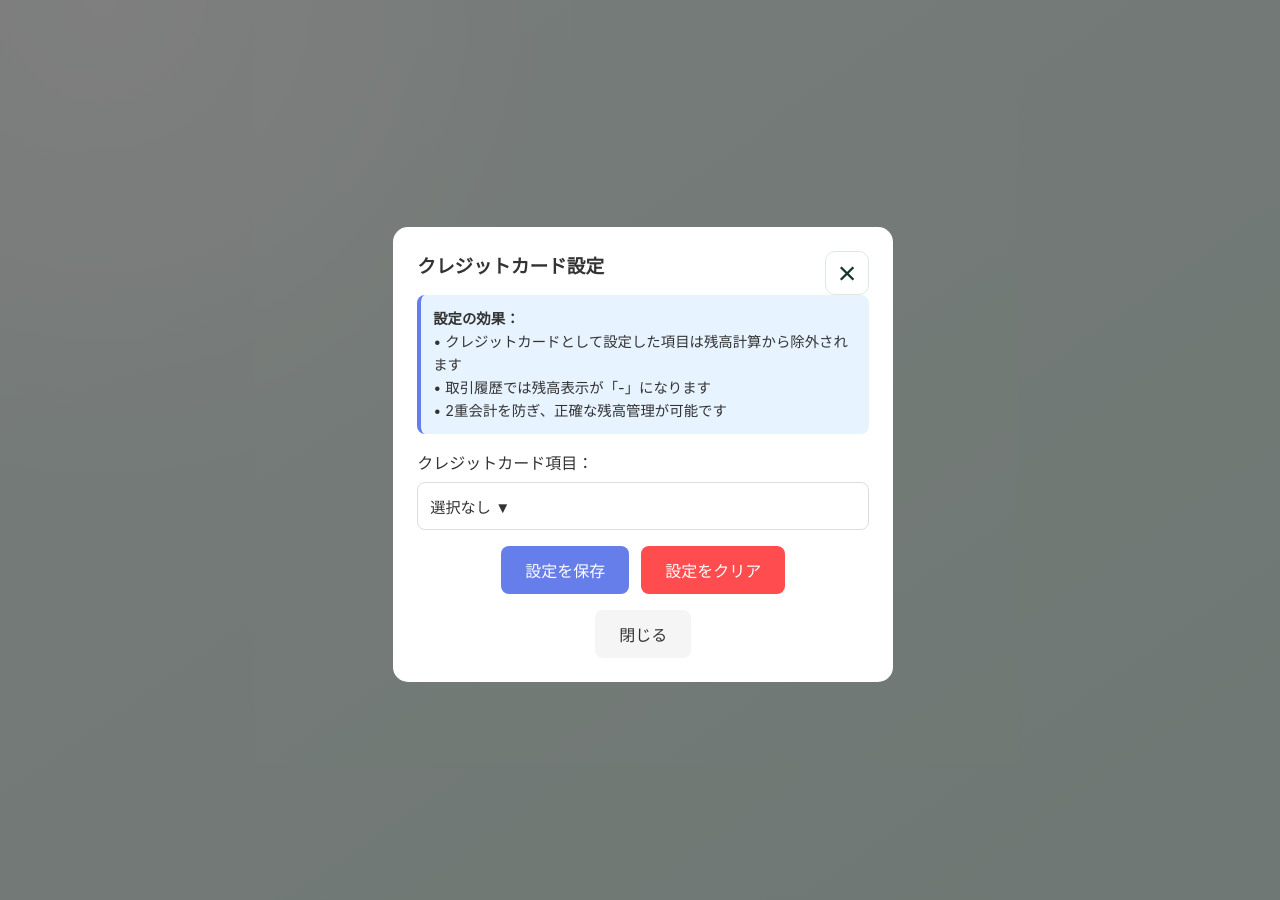
Scenario: preserves the existing selection when clear fails, then clears only after success
The width and height of the screenshot is (1280, 900).
Click the button with class "delete-btn": (713, 570) x1=641 y1=546 x2=785 y2=594
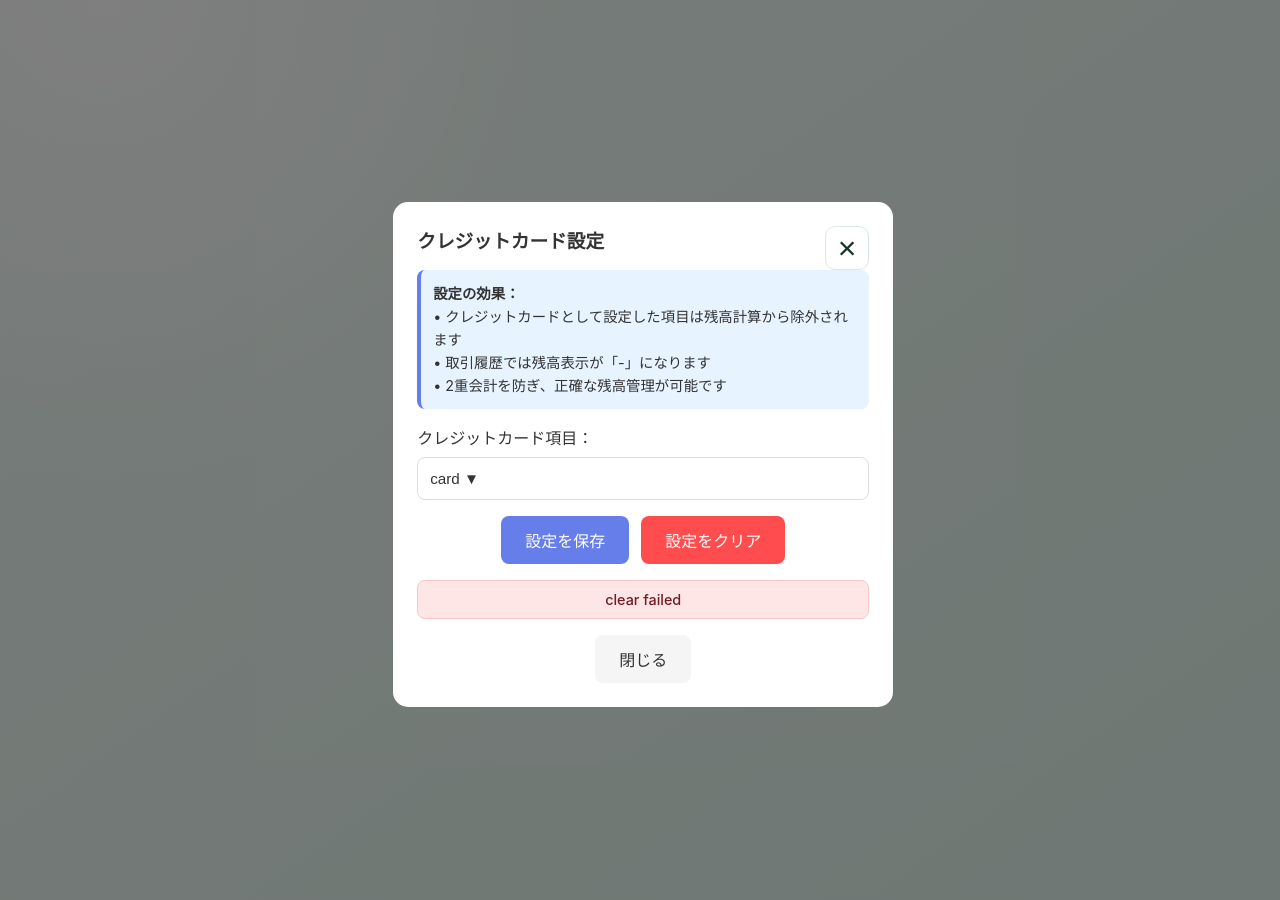
Check: the button with class "select-button" shows "card", box x1=417 y1=457 x2=869 y2=500
Check: the message "clear failed" is shown, box x1=417 y1=580 x2=869 y2=619
Click the button with class "delete-btn": (713, 540) x1=641 y1=516 x2=785 y2=564
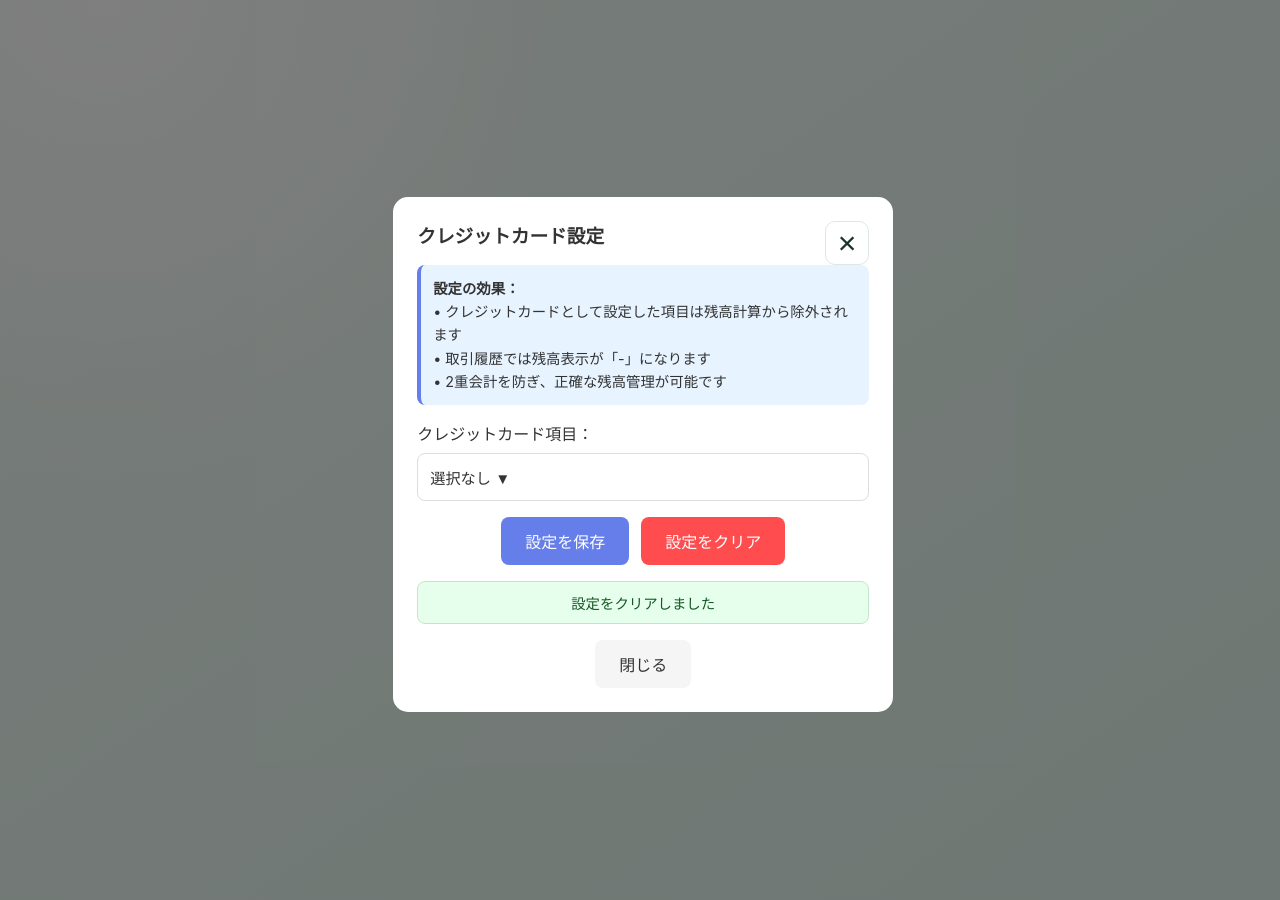
Check: the button with class "select-button" shows "選択なし", box x1=417 y1=453 x2=869 y2=501
